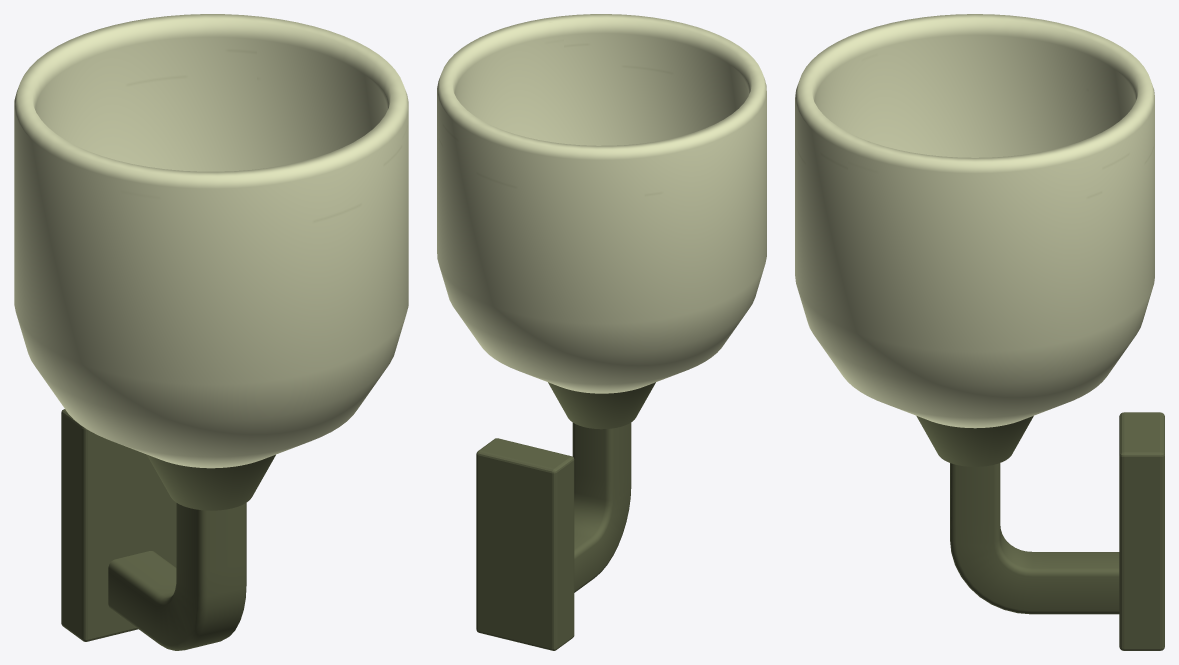
File: StraightLamp_ARCH01_COLLARTIP_C1.fbx
3 views of the same model, side by side, from view 1: azimuth 30°, elevation 25°; view 2: azimuth 150°, elevation 25°; view 3: azimuth 270°, elevation 25° (orthographic). The views are drawn at different scales.
Visible parts, largest first — view 1: StraightLamp; view 2: StraightLamp; view 3: StraightLamp.
Boxes of the visible parts, box(x1,y1,x2,y2) form: StraightLamp: box(14, 14, 408, 650); StraightLamp: box(437, 14, 766, 650); StraightLamp: box(795, 14, 1164, 650).
Bounding box in the file's own units: 0.222 × 0.3689 × 0.228.
Materials: 2 (1 with a texture image).
